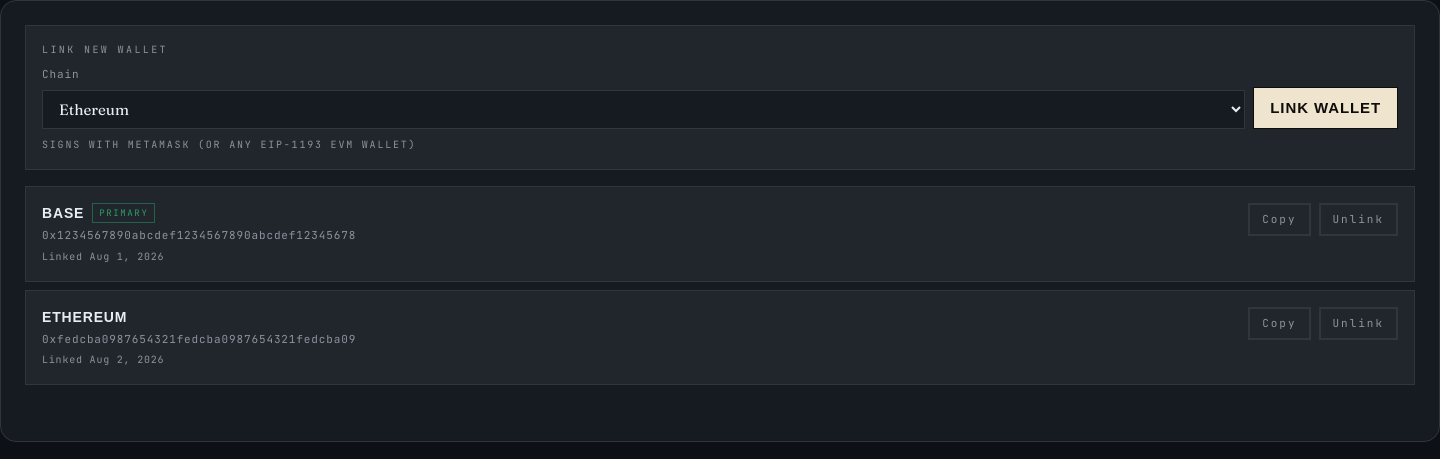
Test case: copy address › a clipboard failure shows our wording, not the browser exception
Click the button with aria-label "Copy Base wallet address": click(1279, 219) [1248,203,1310,236]
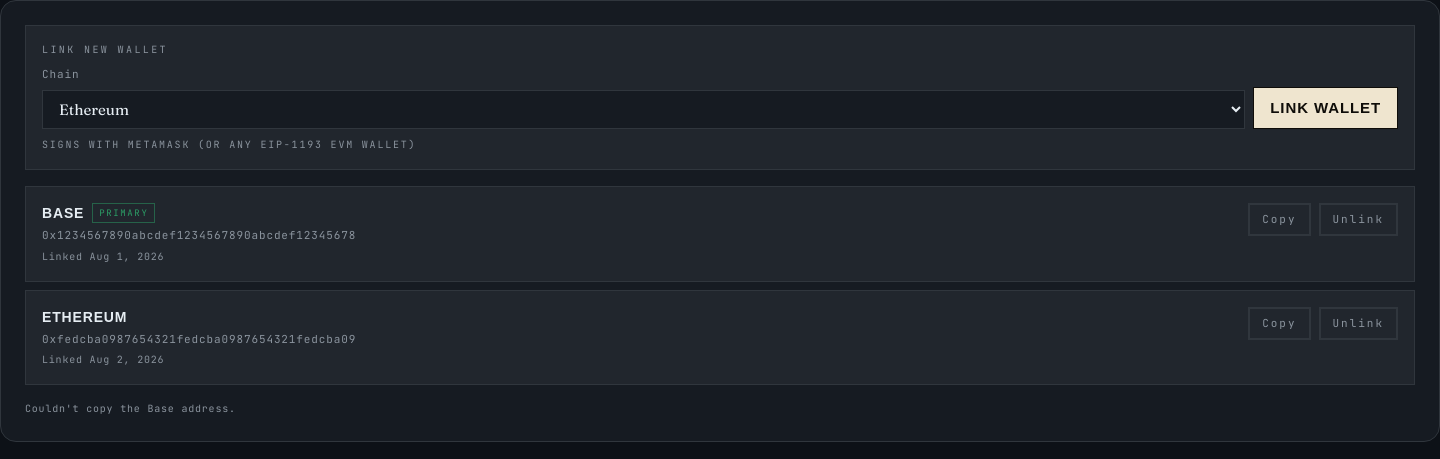
Now the text "Couldn't copy the Base address." is shown, box [25,402,236,415]
